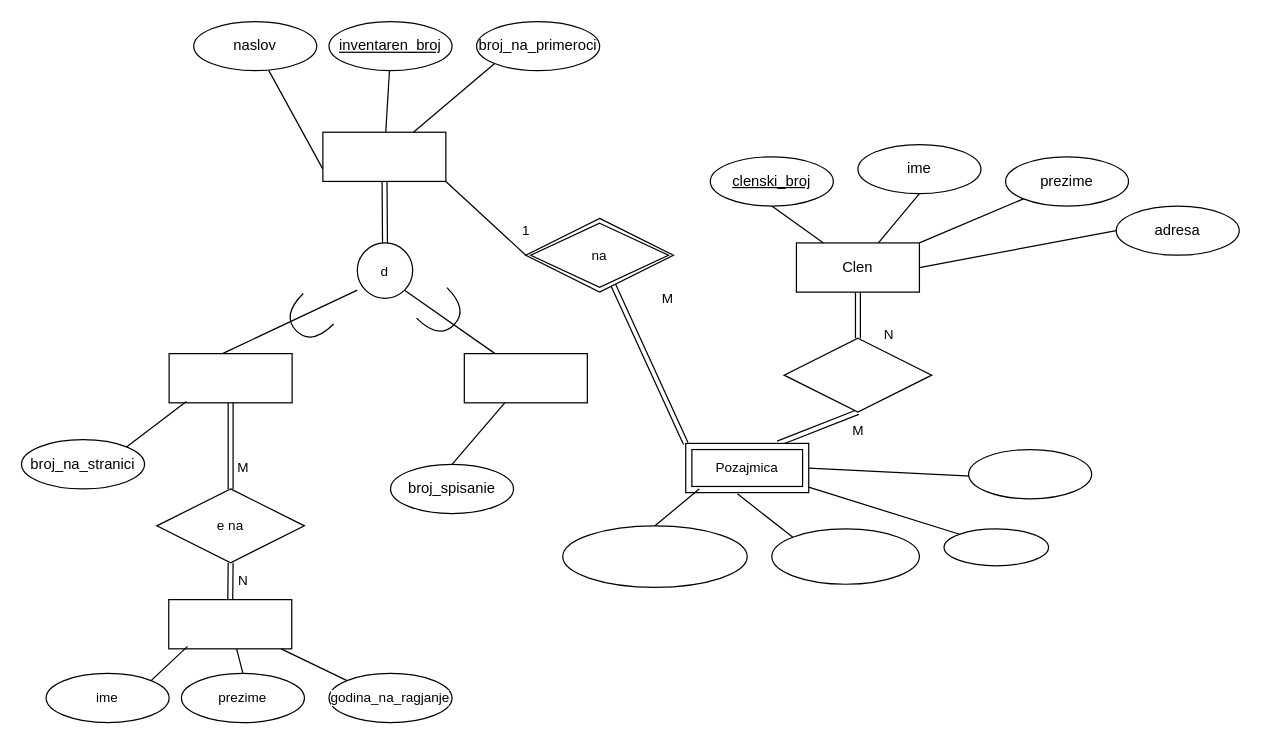
Some shapes in this 1261 by 744 pixel diagram are drawn without their labels. Each missing label, with the centre of its shape:
"Aftor" belongs at point (230, 623).
"datum_na_pozajmuvanje" belongs at point (654, 556).
"datum_vrakjanje" belongs at point (845, 556).
"Kniga" belongs at point (230, 377).
"napravil" belongs at point (857, 374).
"sifra_pozajmica" belongs at point (1029, 473).
"Spisanie" belongs at point (525, 377).
"status" belongs at point (996, 547).
"Stavka" belongs at point (384, 156).
